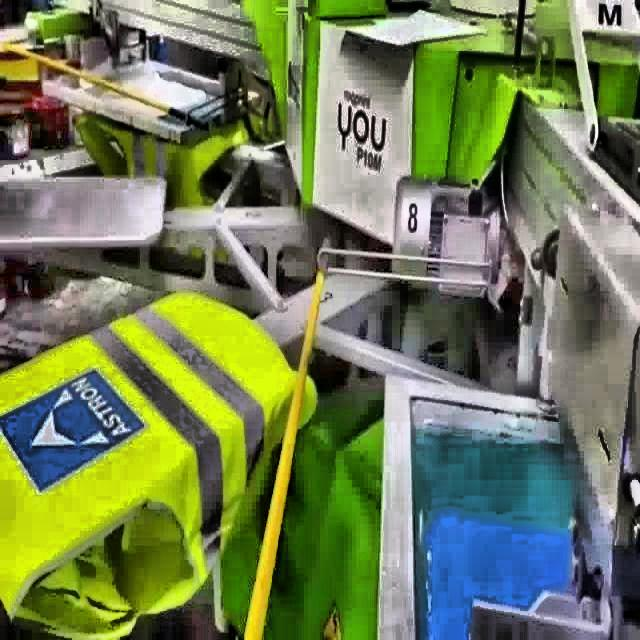safety_jacket: (1, 289, 320, 640)
